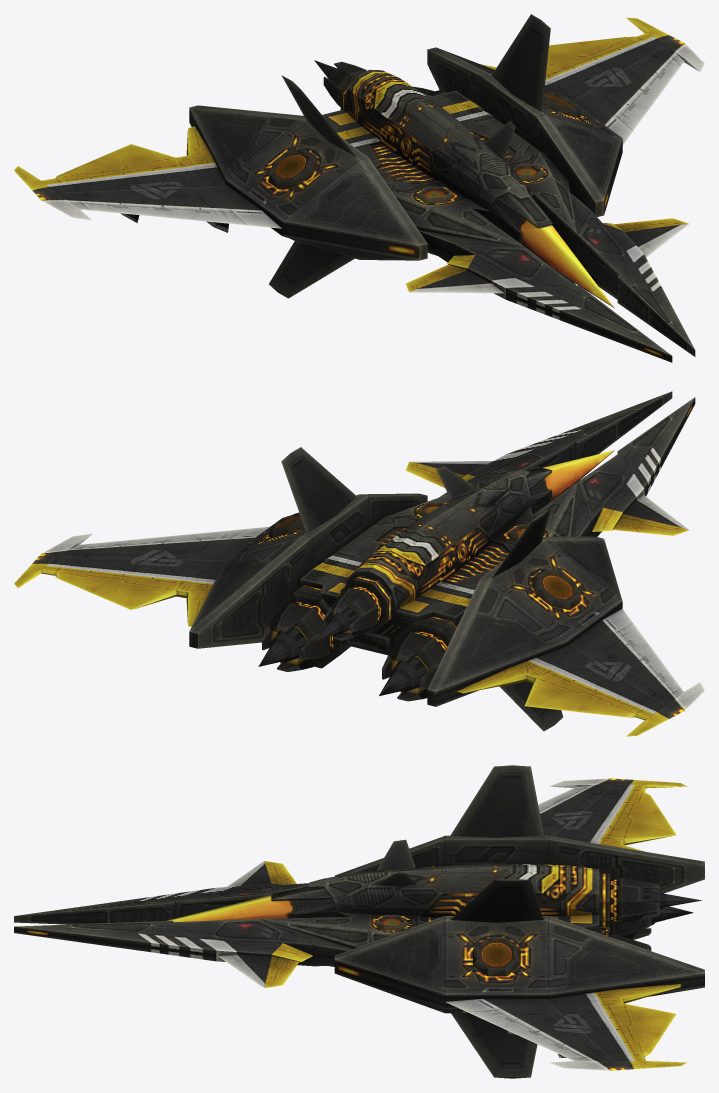
File: small_fighter.glb
3 views of the same model, one above another, from view 1: azimuth 30°, elevation 25°; view 2: azimuth 150°, elevation 25°; view 3: azimuth 270°, elevation 25° (orthographic). The views are drawn at different scales.
Visible parts, largest first — view 1: Object_3.001; view 2: Object_3.001; view 3: Object_3.001.
Part boxes in pixels (x1=…): Object_3.001: x1=14, y1=14, x2=704, y2=362; Object_3.001: x1=14, y1=391, x2=704, y2=736; Object_3.001: x1=14, y1=765, x2=704, y2=1078.
Size of the model in its own units: 1.74 by 0.539 by 1.74.
1 material, 1 textured.
